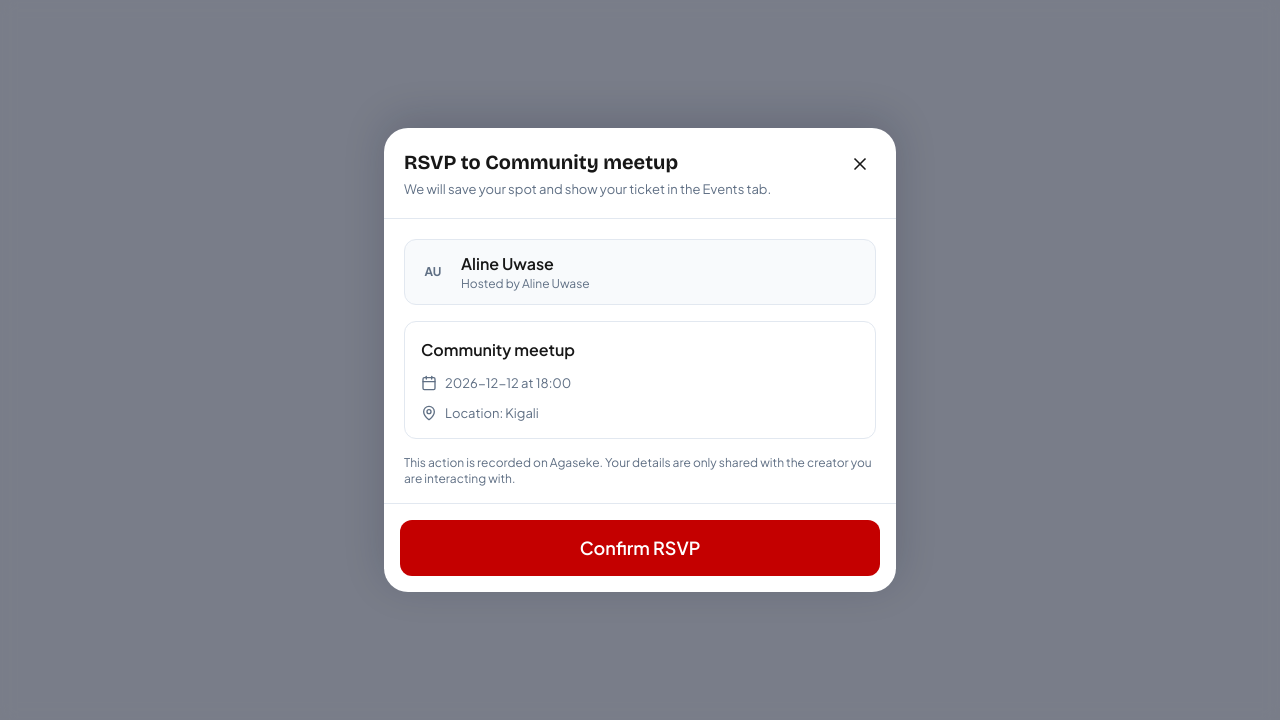
Test case: supporter action sheets › confirms a free RSVP and shows the success state
This screenshot has width=1280, height=720.
Click the button "Confirm RSVP".
click(640, 548)  # box [400, 520, 880, 576]
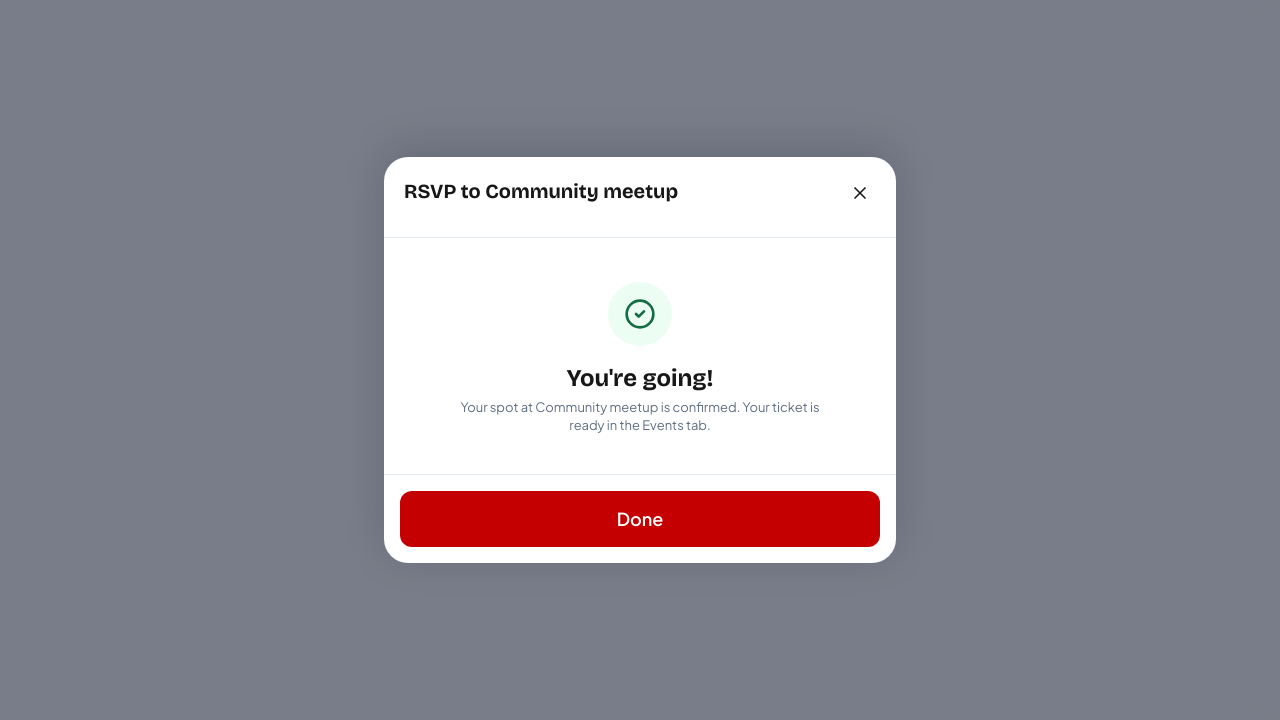
Expected: the heading "You're going!" is shown, [566, 364, 714, 392]
